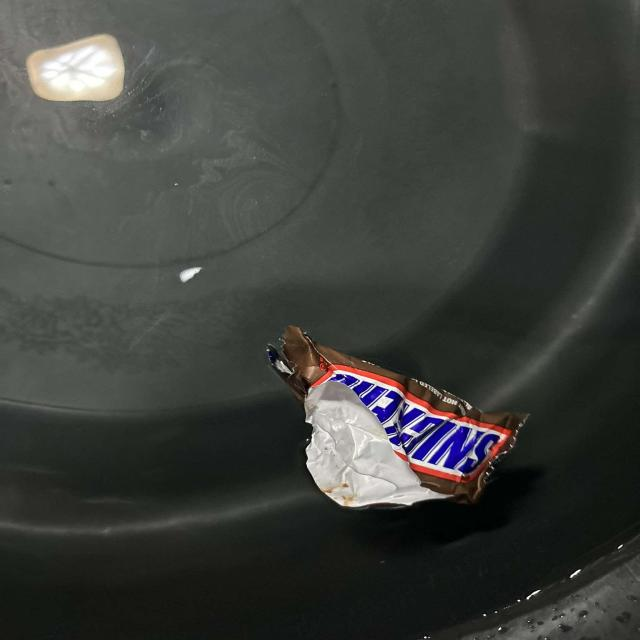Plastic Wrapper: (259, 326, 542, 546)
